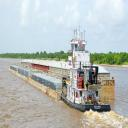tugboat: (62, 26, 113, 117)
